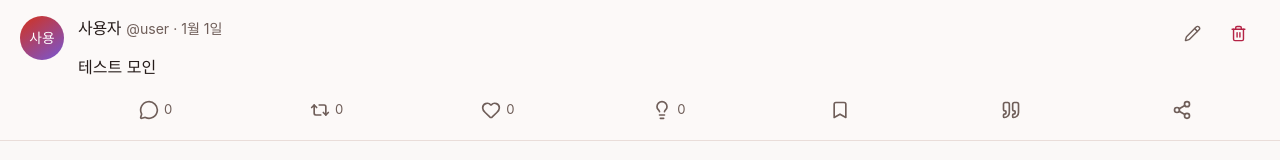
Test: MoinCard optimistic mutation › Signal 요청 완료 전에 UI와 cache callback을 먼저 갱신한다
Click the 2nd button titled "공감": click(498, 110) [412,91,583,129]
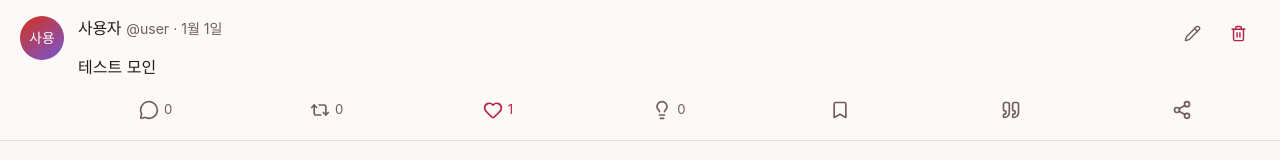
Now the button titled "공감" reads "1", box [412,91,583,129]
